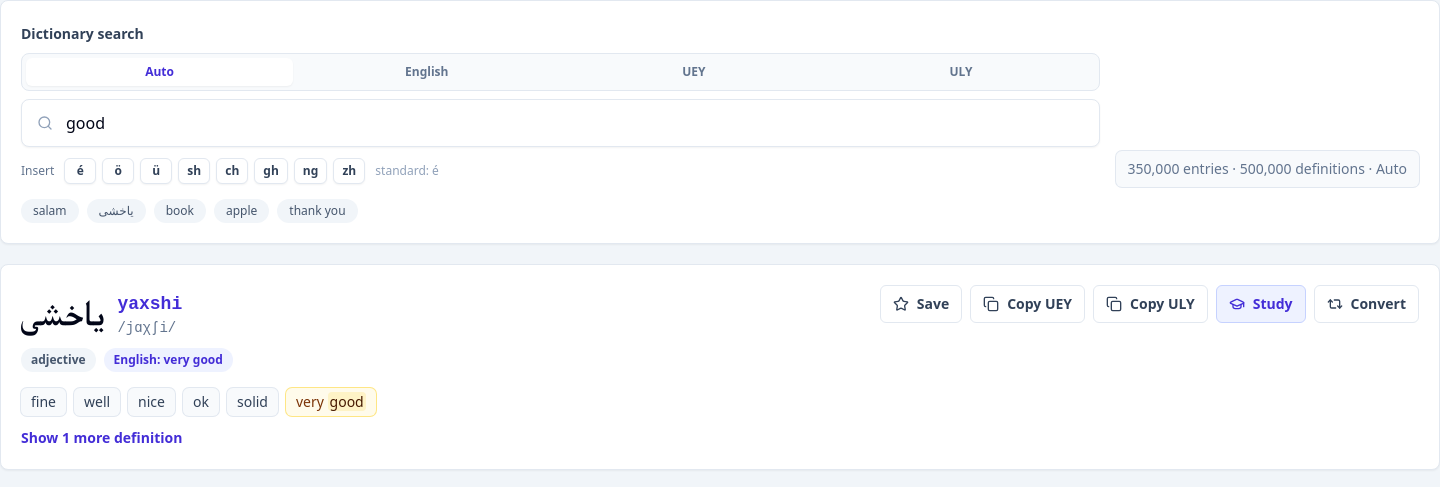
it: DictionaryPanel › highlights matched fragments in visible result text
The width and height of the screenshot is (1440, 487).
Click the button "Show 1 more definition": [102, 438] box [21,428,182,448]
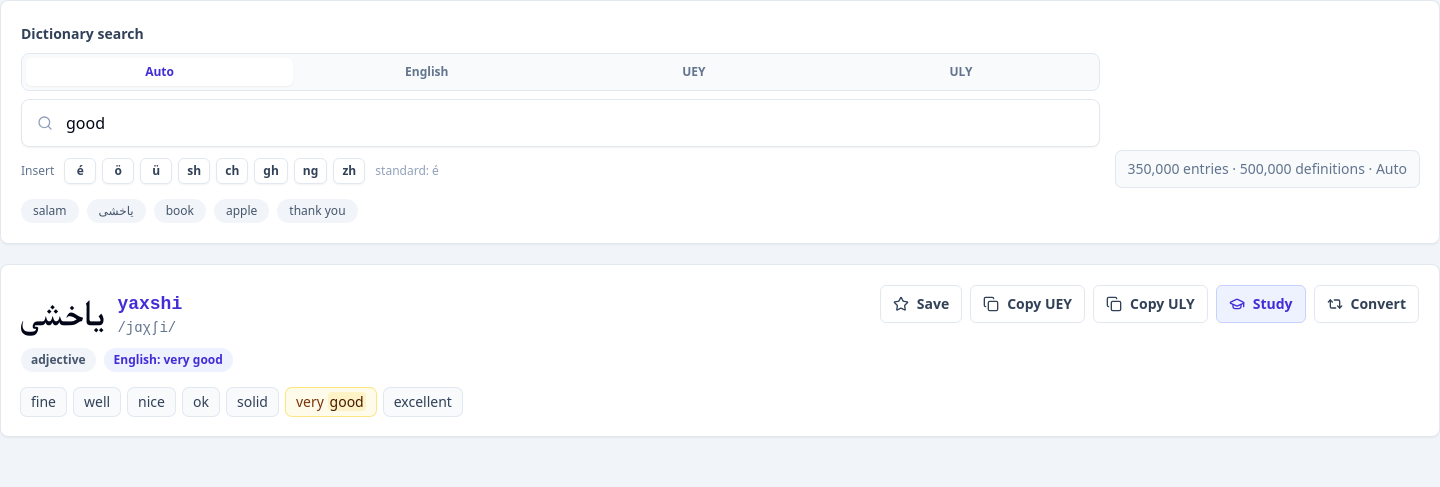
Result: the list item "excellent" is shown at [384,388,462,416]
